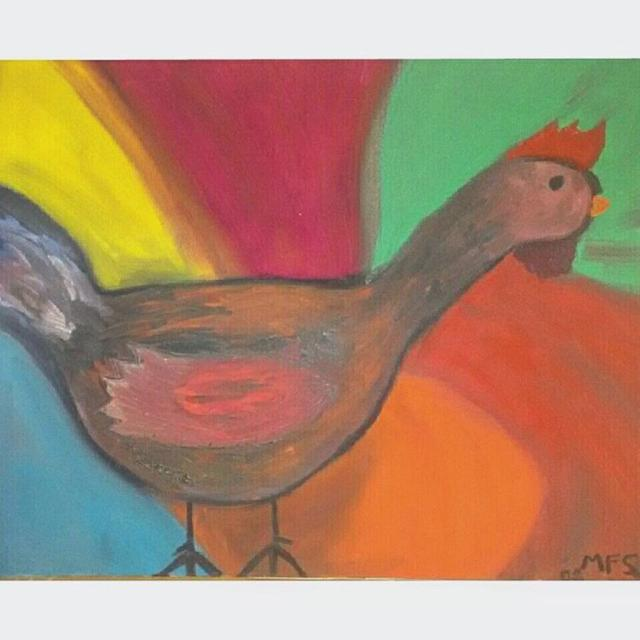Chicken: (5, 99, 640, 574)
